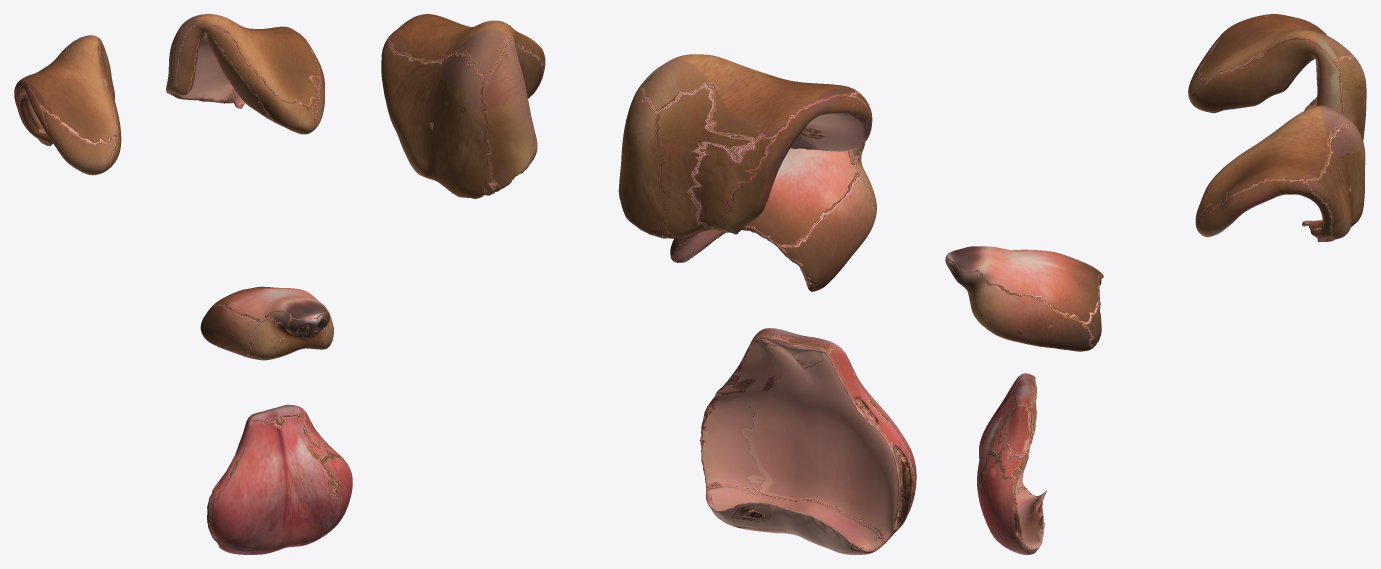
File: Dog_Face_painted.glb
The picture shows the model from 3 angles, left to right: view 1: azimuth 30°, elevation 25°; view 2: azimuth 150°, elevation 25°; view 3: azimuth 270°, elevation 25°; orthographic projection. The views are drawn at different scales.
Visible parts, largest first — view 1: Ears, Tongue, Body; view 2: Ears, Tongue, Body; view 3: Ears, Body, Tongue.
Part boxes in pixels (left/top/right/bottom): Ears: left=14, top=14, right=324, bottom=175; Tongue: left=207, top=404, right=352, bottom=554; Body: left=200, top=286, right=333, bottom=360; Ears: left=381, top=14, right=872, bottom=238; Tongue: left=700, top=328, right=916, bottom=554; Body: left=670, top=142, right=876, bottom=291; Ears: left=1188, top=14, right=1366, bottom=241; Body: left=945, top=246, right=1103, bottom=351; Tongue: left=977, top=373, right=1046, bottom=554.
Size of the model in its own units: 1.64 by 2.35 by 1.91.
1 material, 1 textured.
